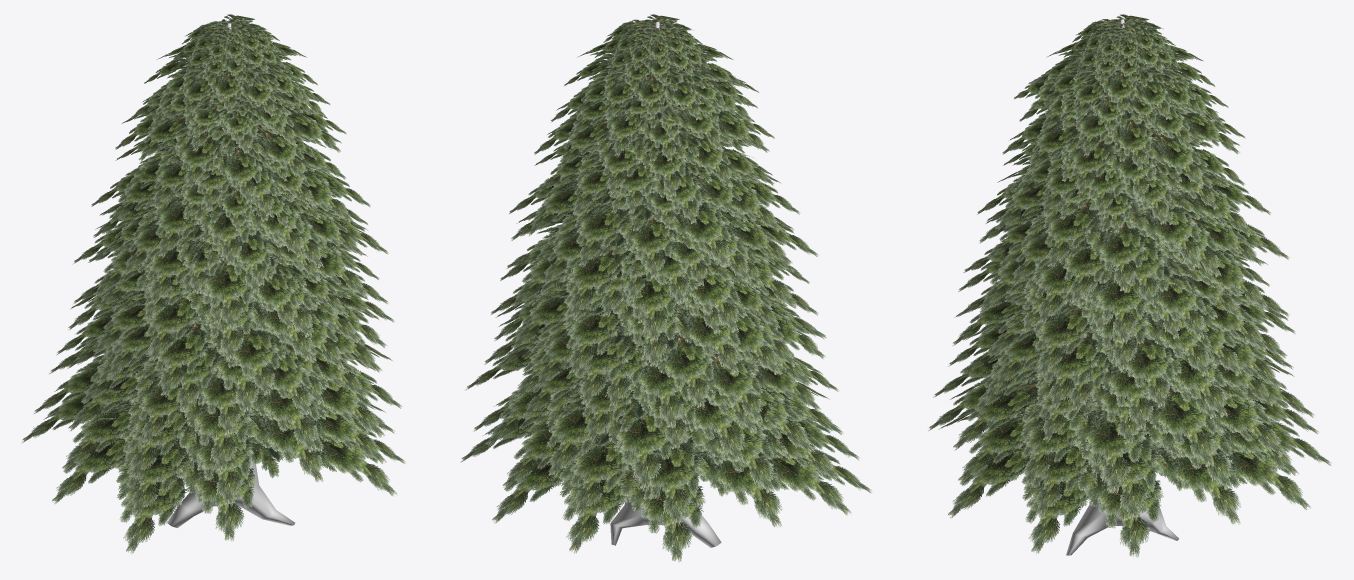
File: ChristmasТree.fbx
3 renders of one model, left to right at view 1: azimuth 30°, elevation 25°; view 2: azimuth 150°, elevation 25°; view 3: azimuth 270°, elevation 25°, orthographic. The views are drawn at different scales.
Parts seen in each view (by area): view 1: Cube; view 2: Cube; view 3: Cube.
Part boxes in pixels (left/top/right/bottom): Cube: left=21, top=14, right=405, bottom=553; Cube: left=460, top=14, right=872, bottom=562; Cube: left=928, top=14, right=1330, bottom=557.
Bounding box in the file's own units: 1820 × 1827 × 2418.
